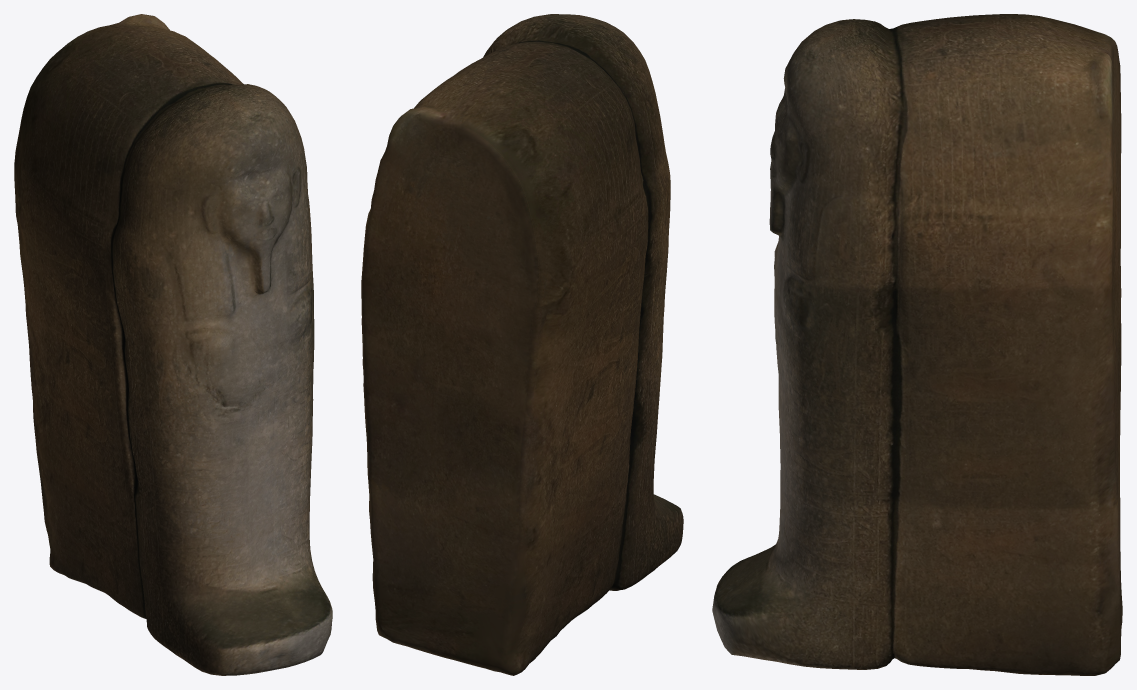
Rendered from sarcophagus.glb.
3 views of the same model, side by side, from view 1: azimuth 30°, elevation 25°; view 2: azimuth 150°, elevation 25°; view 3: azimuth 270°, elevation 25° (orthographic). The views are drawn at different scales.
Visible parts, largest first — view 1: Object_2; view 2: Object_2; view 3: Object_2.
Part boxes in pixels (bbox=[...]): Object_2: bbox=[14, 14, 332, 675]; Object_2: bbox=[361, 14, 683, 675]; Object_2: bbox=[712, 14, 1122, 675].
Size of the model in its own units: 2.26 by 5.92 by 3.59.
Materials: 1 (1 with a texture image).
